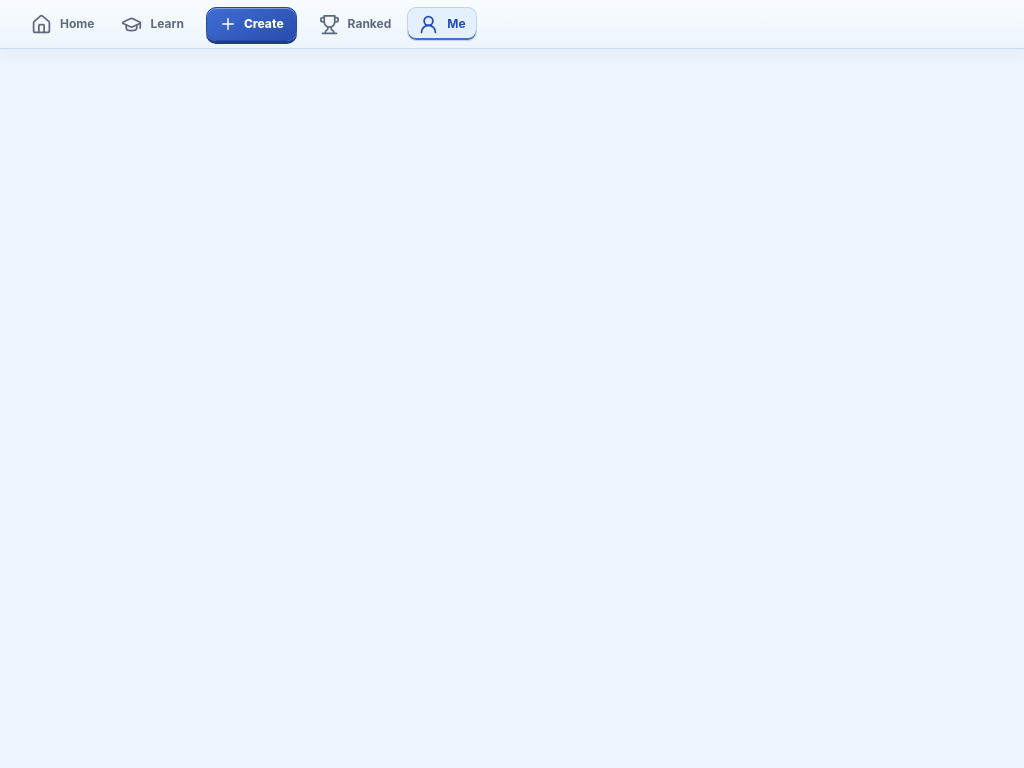
Test: the (+) Create action › is left behind by Back, and does not reopen on returning
Click the link "Create" at (251, 24), box left=206, top=7, right=297, bottom=41
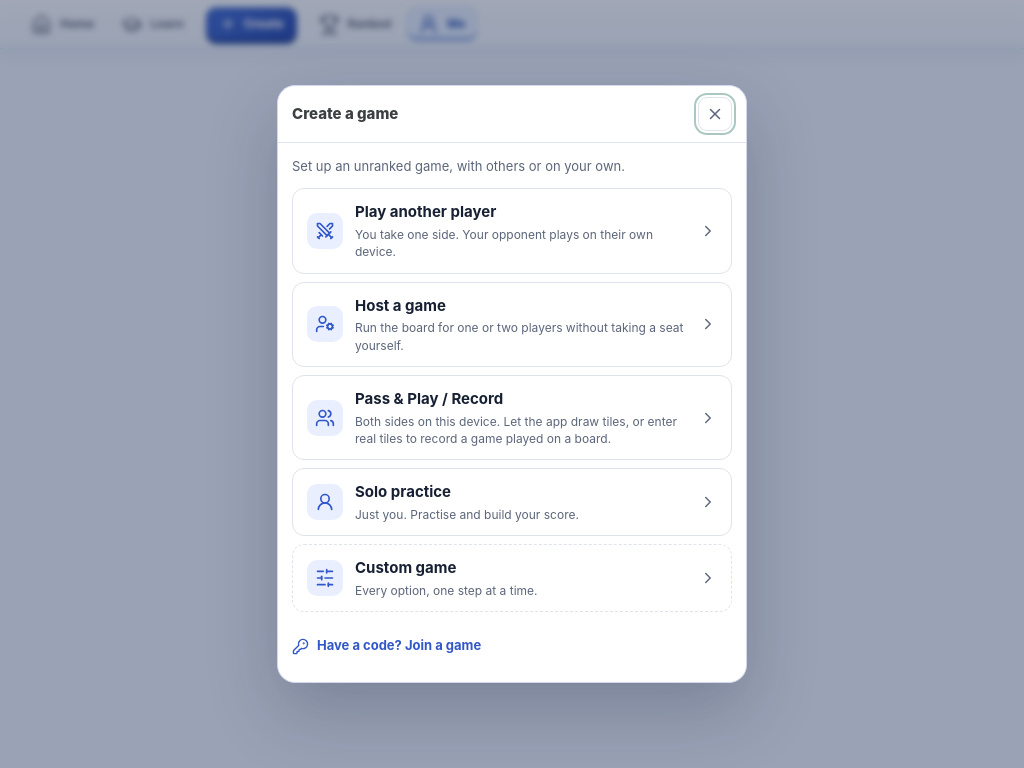
Result: the dialog is shown at left=277, top=85, right=747, bottom=683
